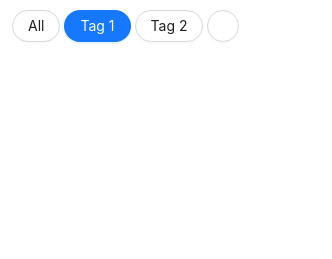
Test case: test Tags component › tags dropdown open when click on 3 dot button
The image size is (332, 259).
Click the button named "more-tags".
click(224, 26)  # box [208,10,240,42]
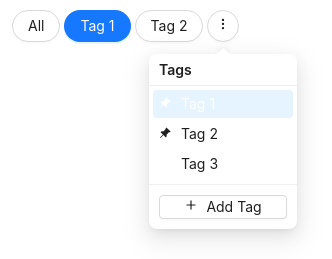
Now the heading named "tags list" is shown, box [149,54,297,86]
